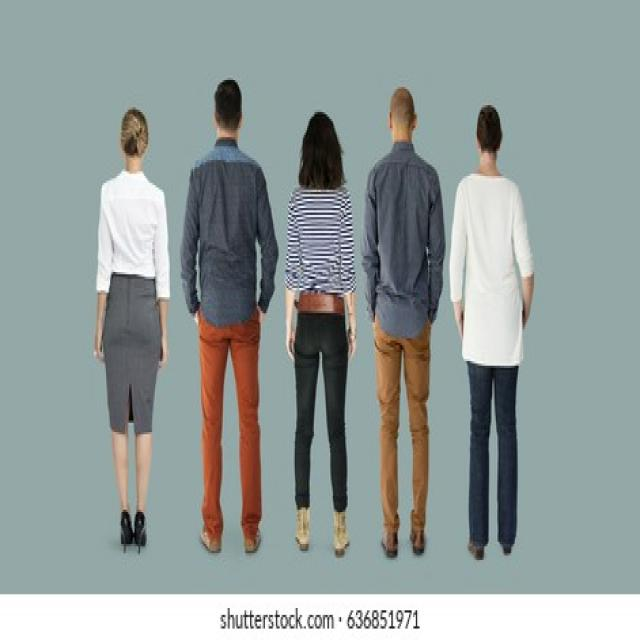adult: (180, 77, 279, 557), (450, 103, 535, 563), (366, 86, 446, 554), (90, 104, 172, 557), (287, 108, 358, 558)
